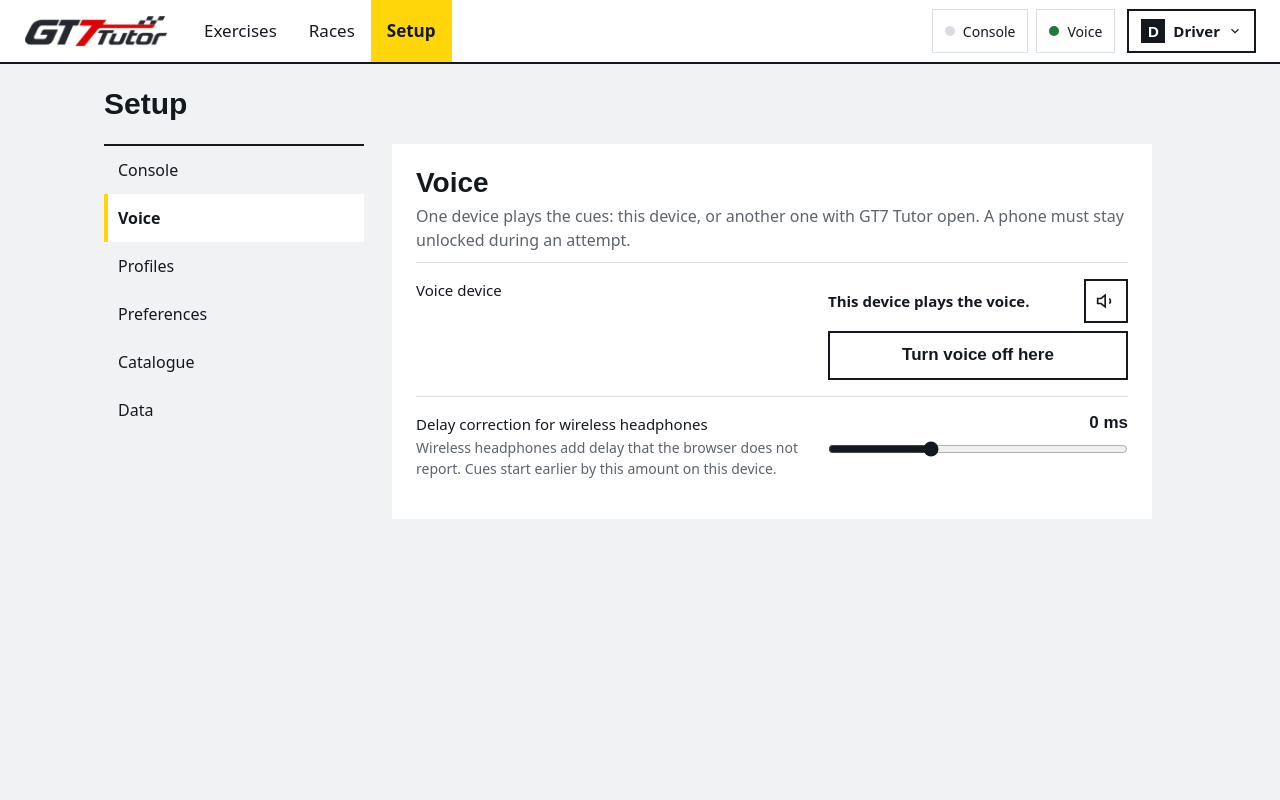
it: setup fixes › voice_test_reports_browser_latency_not_a_measurement
Expected: the heading "Voice" is shown, left=416, top=166, right=489, bottom=198
Click the 2nd button at (1106, 301), box left=1084, top=279, right=1128, bottom=323
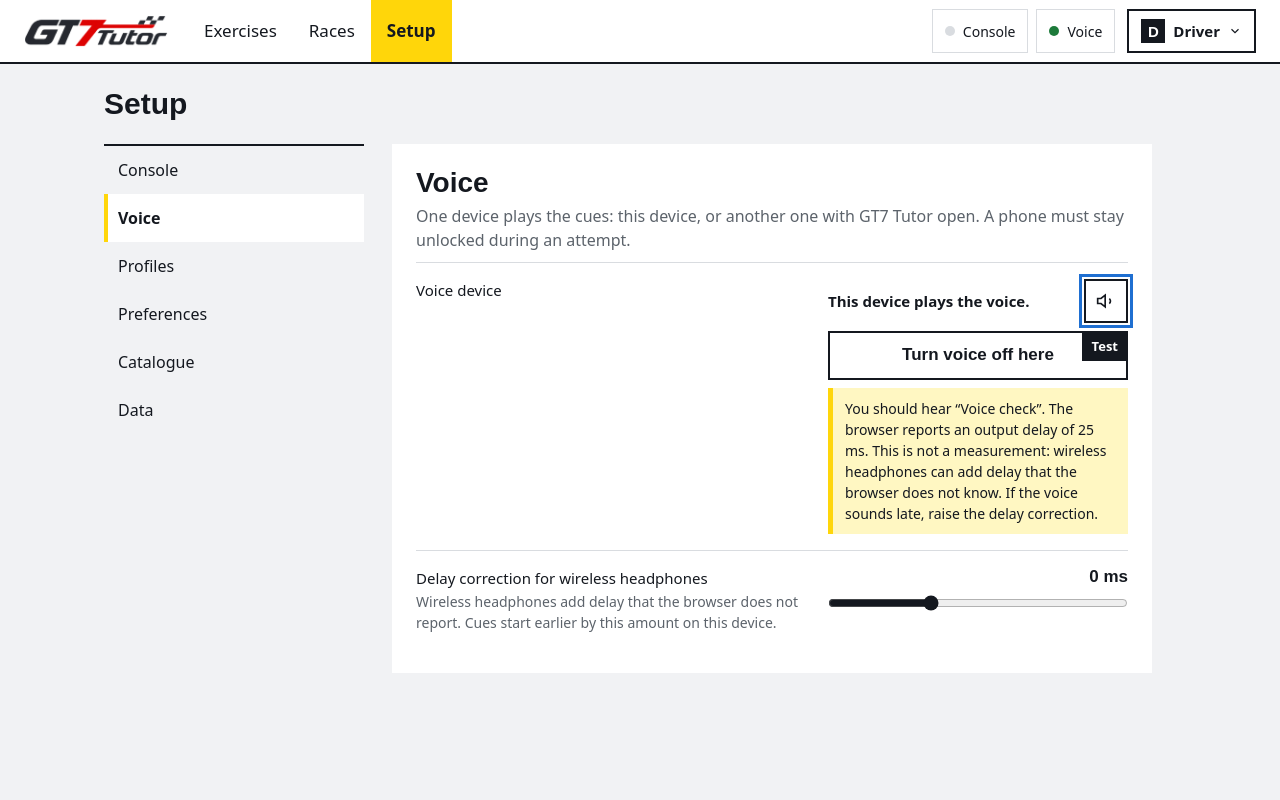
Now the text "The browser reports an output delay of 25 ms" shows "wireless headphones", box left=845, top=399, right=1106, bottom=523
